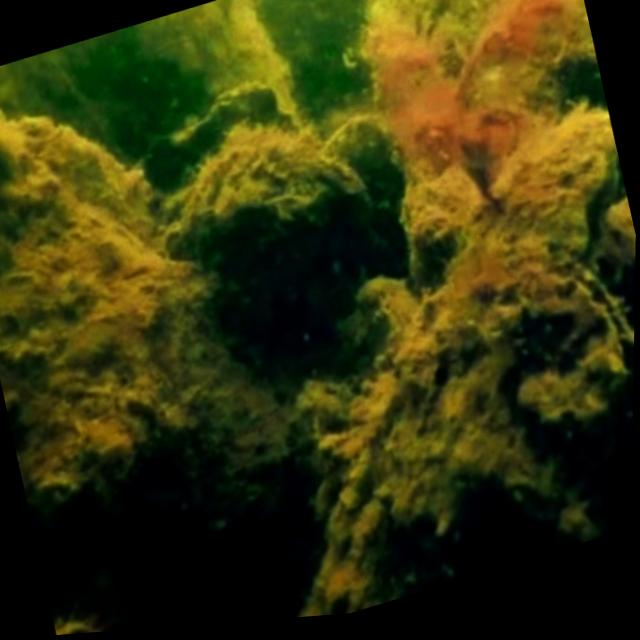Oyster-Closed: (295, 234, 634, 617), (493, 119, 614, 255)
Oyster-Indeterminate: (0, 128, 286, 532), (159, 135, 389, 365), (0, 113, 153, 240), (135, 89, 294, 194), (322, 121, 412, 283), (392, 167, 500, 294)
